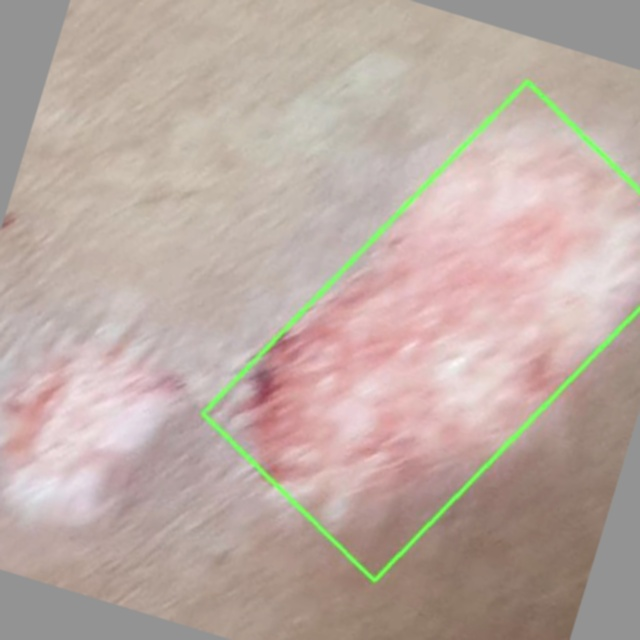Eczema: (203, 82, 639, 581)
